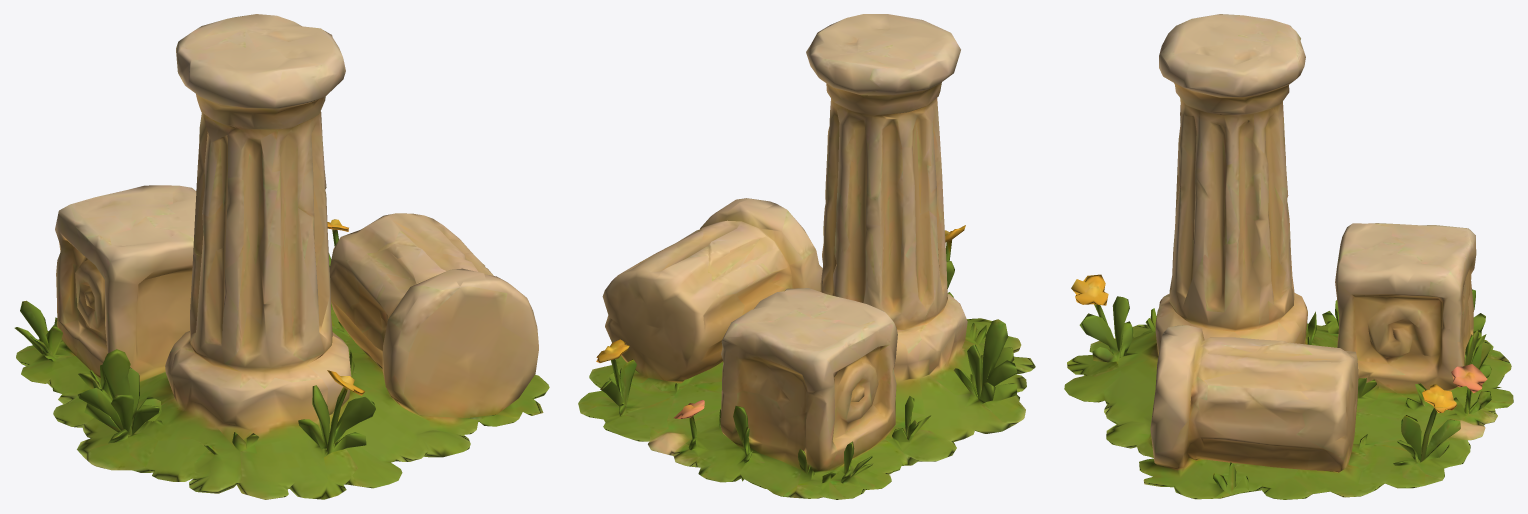
The model's file is ruin.glb.
3 views of the same model, side by side, from view 1: azimuth 30°, elevation 25°; view 2: azimuth 150°, elevation 25°; view 3: azimuth 270°, elevation 25° (orthographic). The views are drawn at different scales.
Parts seen in each view (by area): view 1: tripo_node_8524140e-0e04-42ee-81dd-efa457652956; view 2: tripo_node_8524140e-0e04-42ee-81dd-efa457652956; view 3: tripo_node_8524140e-0e04-42ee-81dd-efa457652956.
Boxes of the visible parts, left/top/right/bottom form: tripo_node_8524140e-0e04-42ee-81dd-efa457652956: left=14, top=14, right=549, bottom=499; tripo_node_8524140e-0e04-42ee-81dd-efa457652956: left=578, top=14, right=1035, bottom=499; tripo_node_8524140e-0e04-42ee-81dd-efa457652956: left=1064, top=14, right=1513, bottom=499.
Bounding box in the file's own units: 0.9893 × 0.8558 × 1.
Materials: 1 (1 with a texture image).
